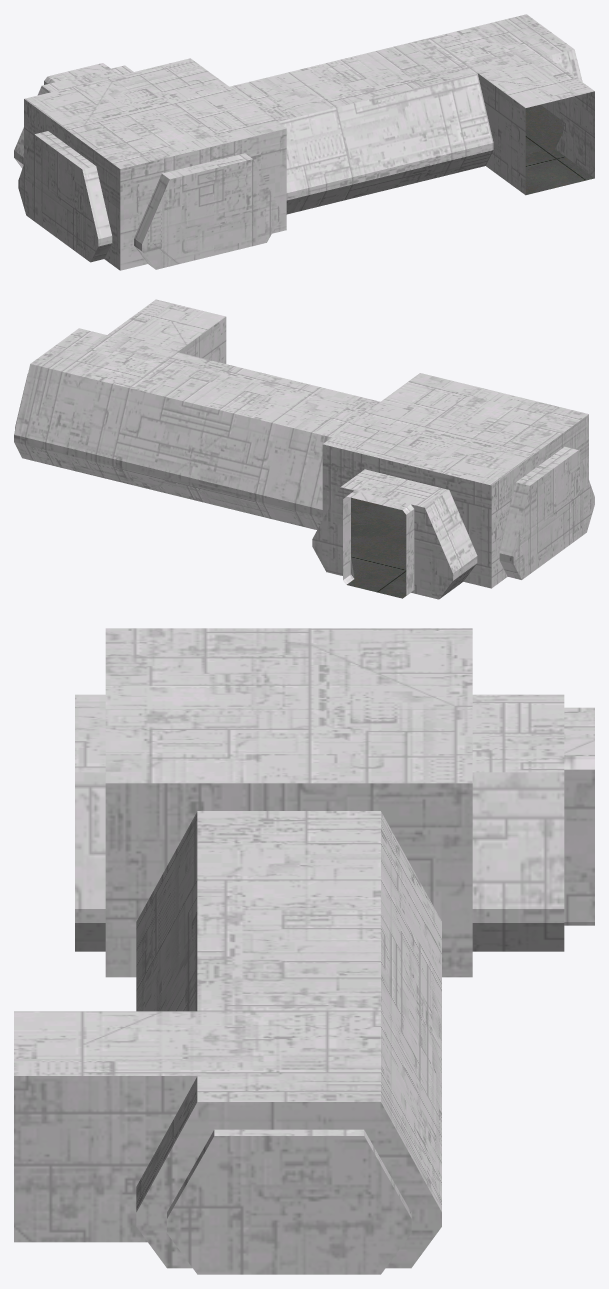
File: thm_spc_star_destroyer_s01_r23_hallway05_mesh_r23.fbx
The picture shows the model from 3 angles, top to bottom: view 1: azimuth 30°, elevation 25°; view 2: azimuth 150°, elevation 25°; view 3: azimuth 270°, elevation 25°; orthographic projection. The views are drawn at different scales.
Parts seen in each view (by area): view 1: mesh_node; view 2: mesh_node; view 3: mesh_node.
Boxes of the visible parts, x1,y1,x2,y2 form: mesh_node: [14, 14, 594, 270]; mesh_node: [14, 299, 594, 599]; mesh_node: [14, 628, 594, 1274].
Bounding box in the file's own units: 18 × 3.5 × 9.5.
2 materials, 2 textured.
